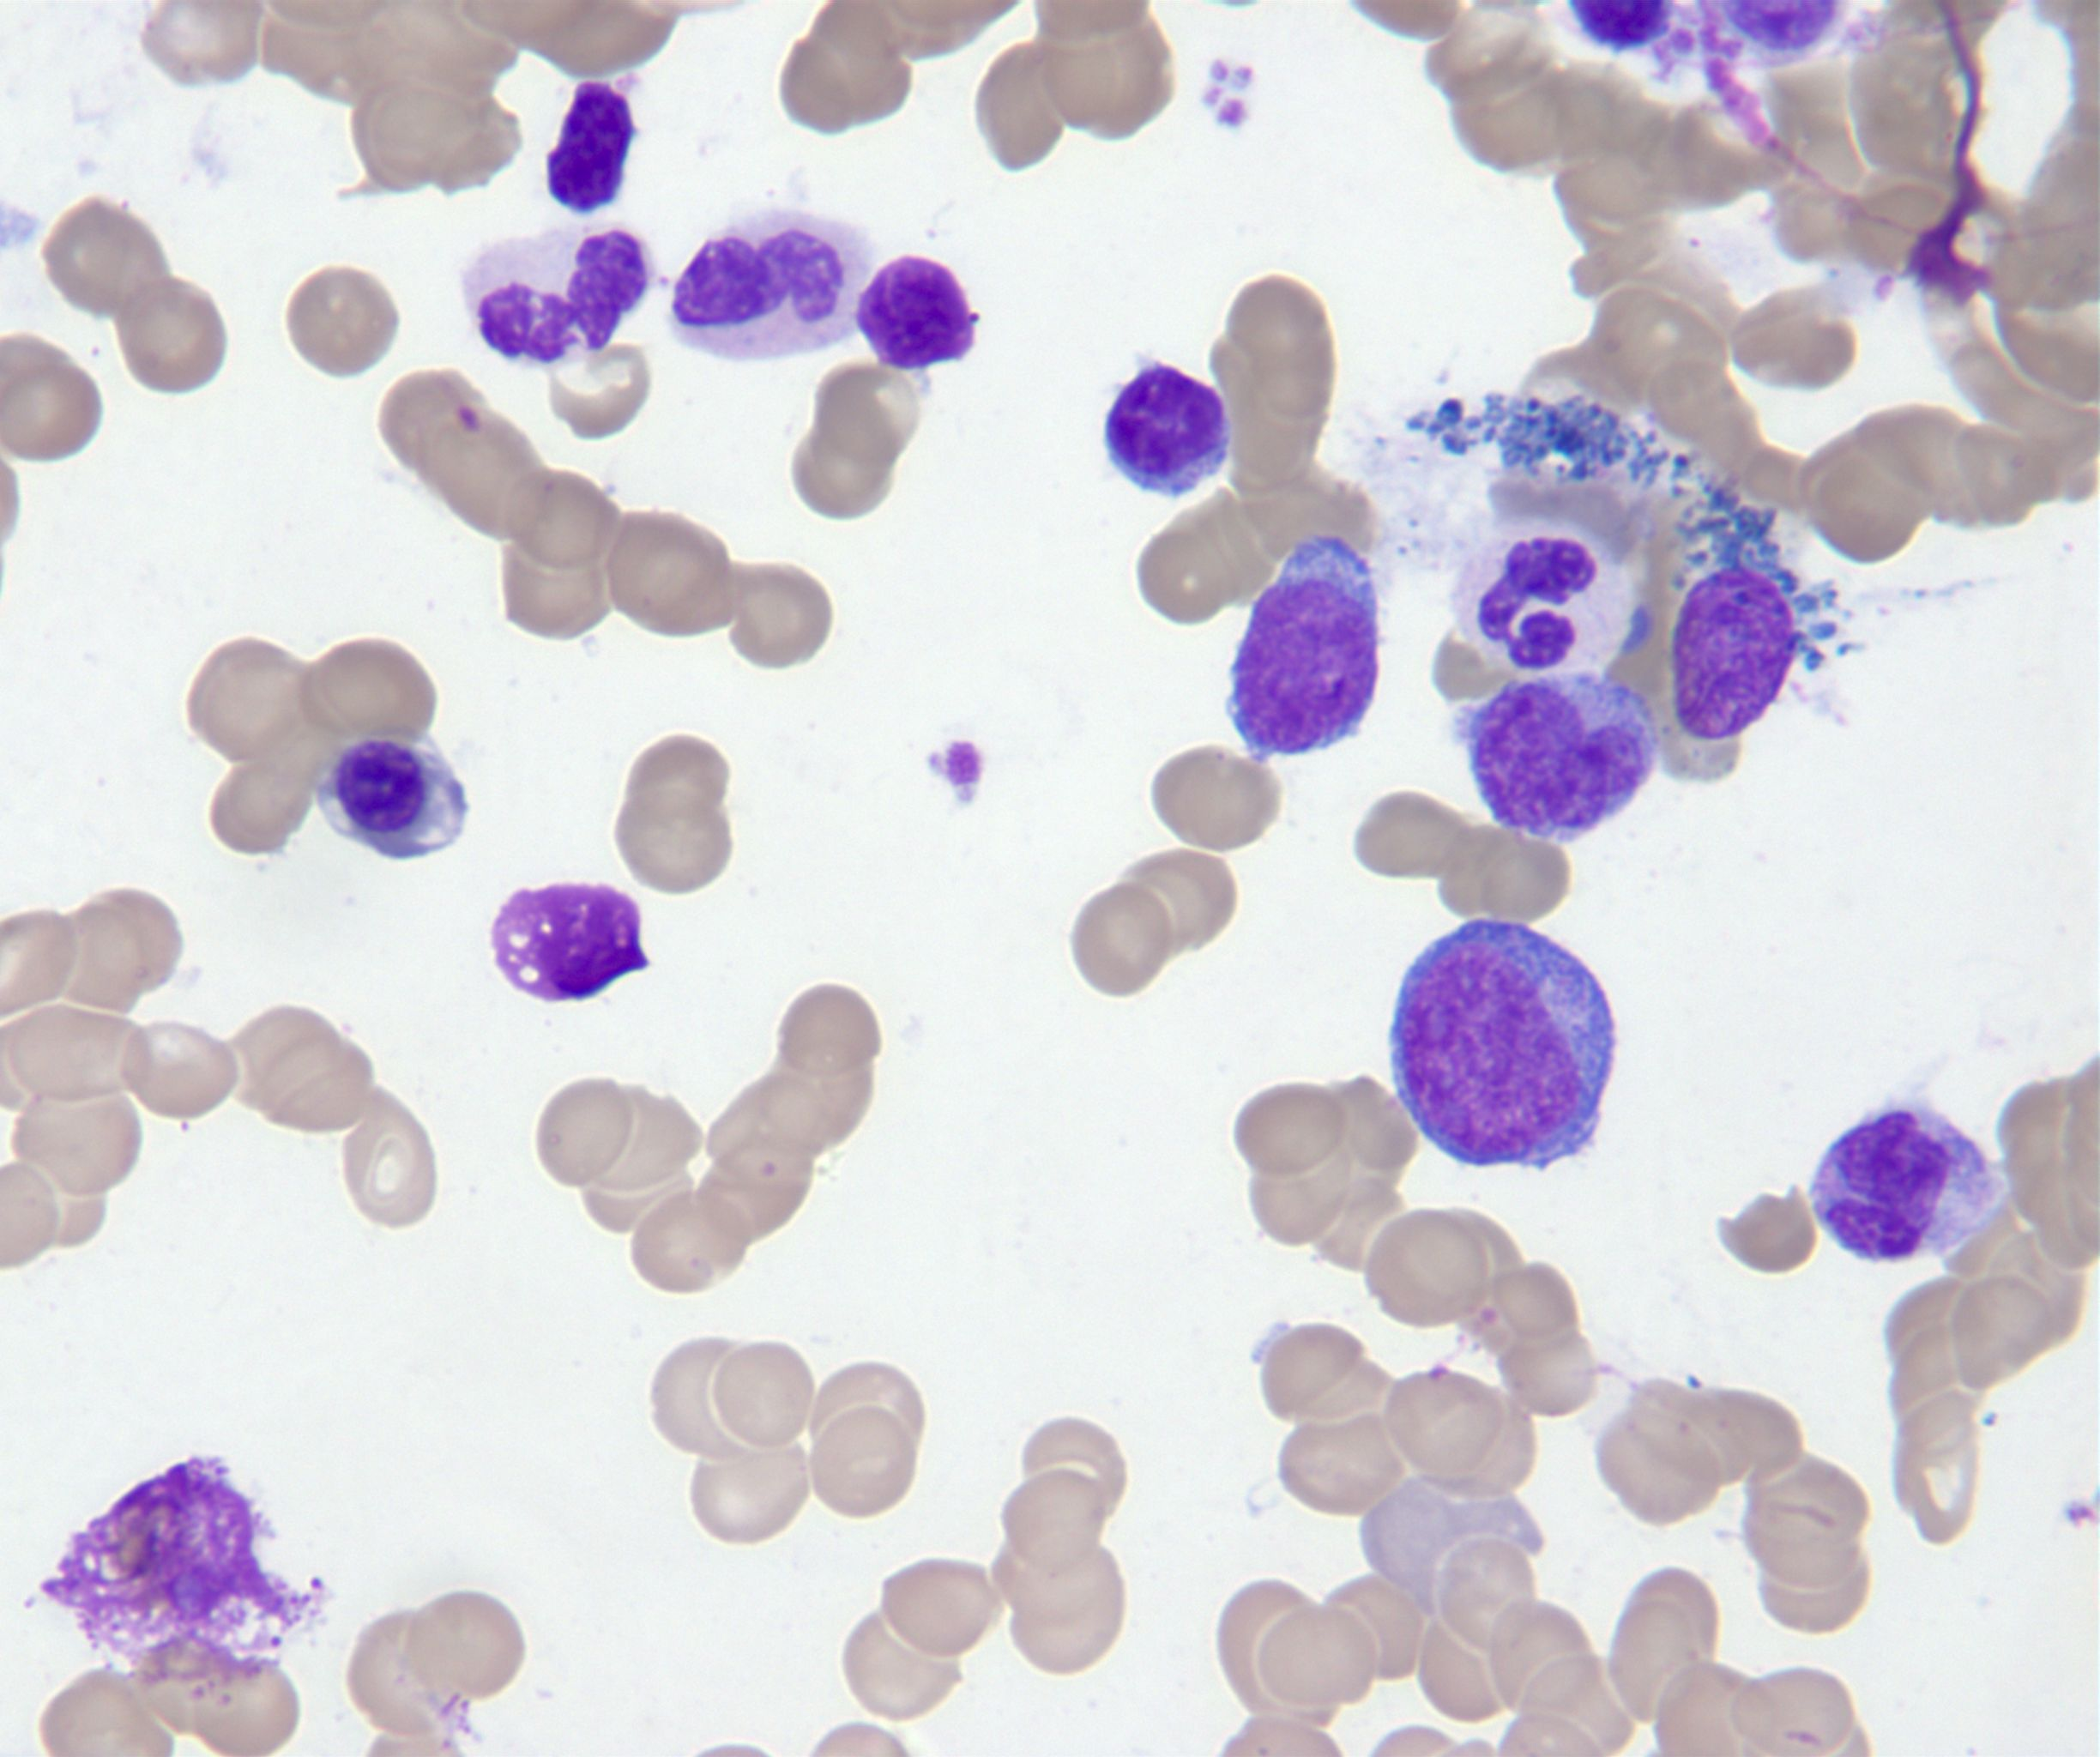1: (1224, 534, 1380, 764)
24: (319, 722, 466, 862)
3: (1392, 920, 1613, 1167)
32: (1104, 351, 1228, 497)
42: (1455, 675, 1657, 841)
6: (1810, 1092, 2004, 1261), (668, 209, 872, 363), (1455, 520, 1633, 682), (462, 227, 652, 361)
x: (45, 1457, 331, 1706), (1669, 571, 1797, 740), (492, 881, 649, 1002), (860, 255, 973, 370), (549, 82, 638, 216)
